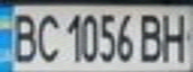0: (78, 9, 100, 63)
1: (60, 10, 84, 64)
5: (96, 9, 121, 63)
6: (115, 10, 139, 63)
B: (6, 8, 42, 64), (136, 10, 166, 63)
C: (33, 9, 60, 64)
H: (157, 9, 190, 63)
